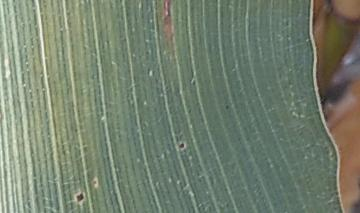tarspot: (76, 191, 84, 203), (177, 141, 185, 149), (91, 178, 98, 186), (223, 102, 230, 110)
